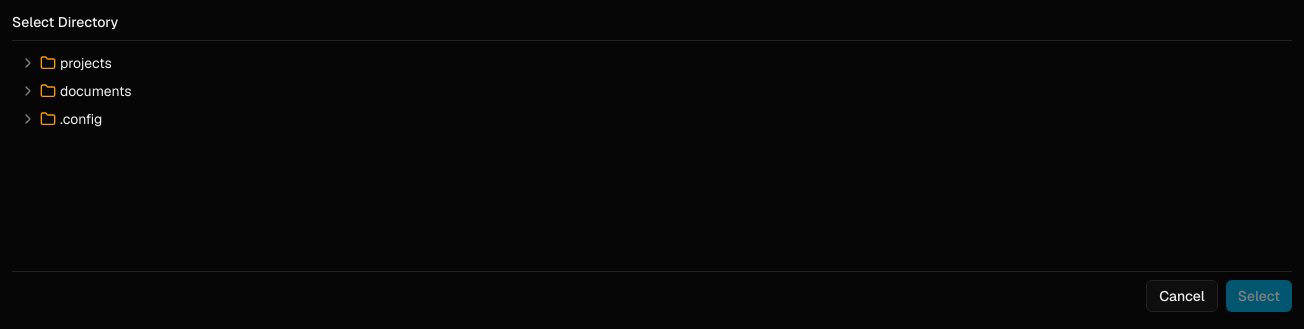
DirectoryPicker › selection behavior › should highlight selected directory when clicked
The image size is (1304, 329).
What coordinates should you click on to do the following:
click the text "projects"
I would click on:
 (86, 63)
Its box is [60,53,112,73].
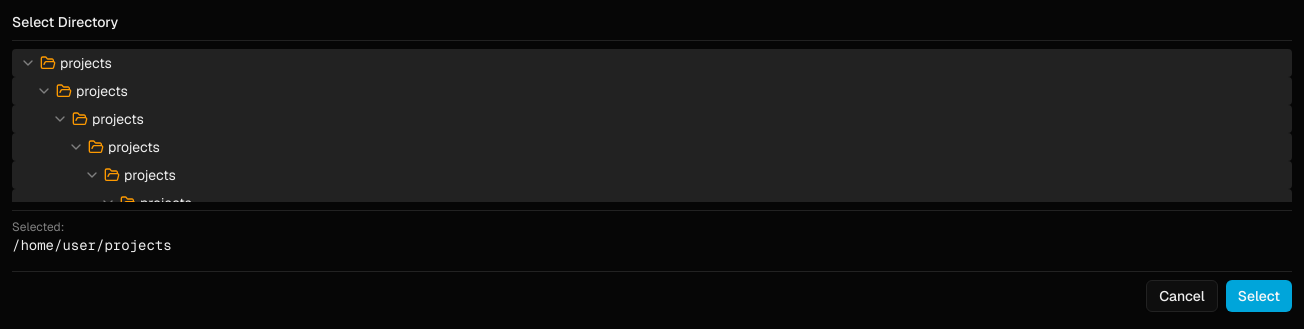
Result: the text "/home/user/projects" is shown at [12,236,172,254]
